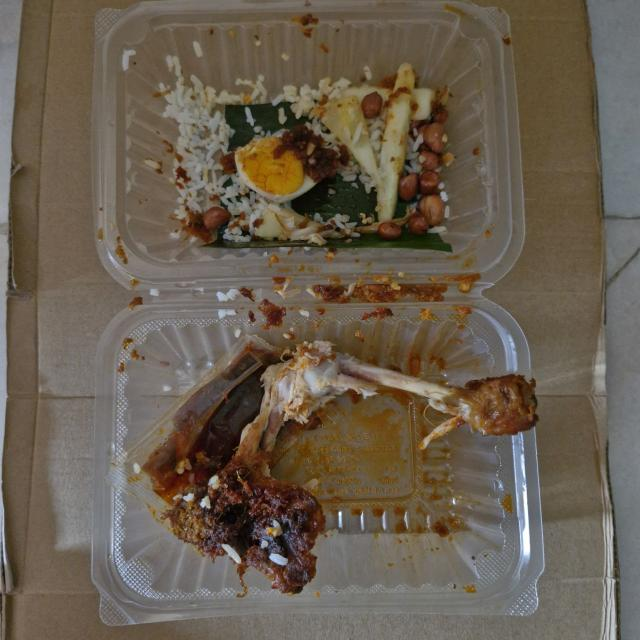food_waste: (200, 338, 540, 598), (162, 81, 458, 251)
plastic: (97, 8, 541, 614), (132, 338, 248, 484)
